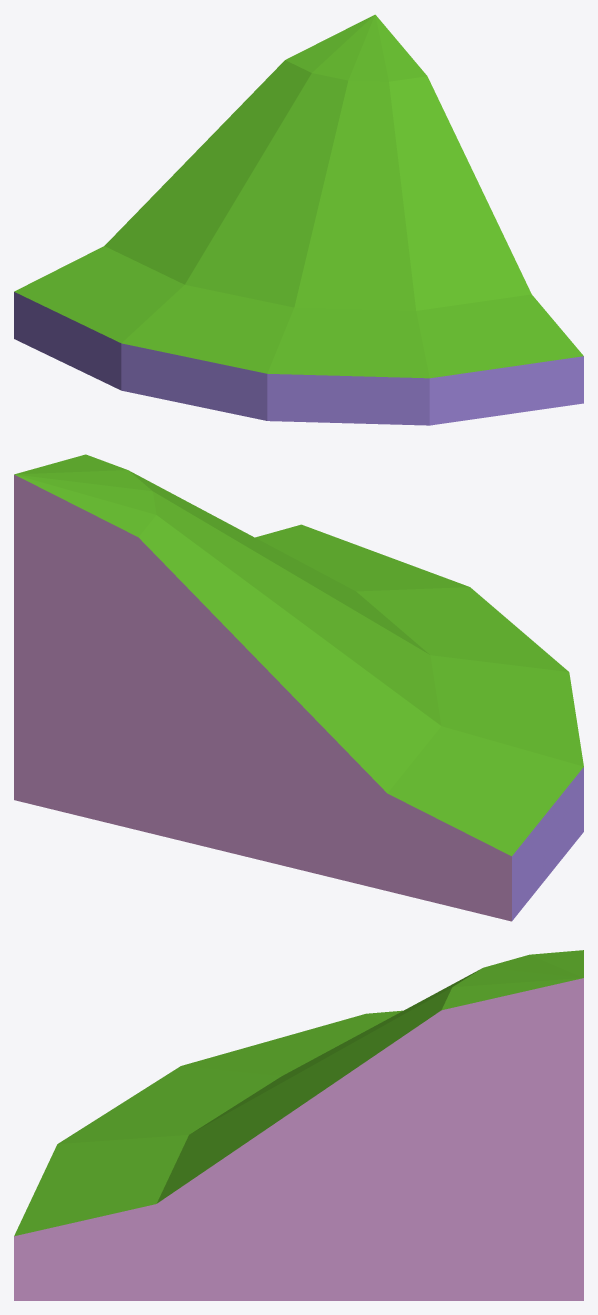
Rendered from Grass_Hill_Sharp_Curve_Outer_2x2.glb.
3 views of the same model, one above another, from view 1: azimuth 30°, elevation 25°; view 2: azimuth 150°, elevation 25°; view 3: azimuth 270°, elevation 25° (orthographic). The views are drawn at different scales.
Parts seen in each view (by area): view 1: Grass_Hill_Sharp_Curve_Outer_2x2; view 2: Grass_Hill_Sharp_Curve_Outer_2x2; view 3: Grass_Hill_Sharp_Curve_Outer_2x2.
Boxes of the visible parts, left/top/right/bottom form: Grass_Hill_Sharp_Curve_Outer_2x2: left=14, top=14, right=583, bottom=425; Grass_Hill_Sharp_Curve_Outer_2x2: left=14, top=454, right=583, bottom=921; Grass_Hill_Sharp_Curve_Outer_2x2: left=14, top=950, right=583, bottom=1300.
Size of the model in its own units: 200 by 125 by 200.
